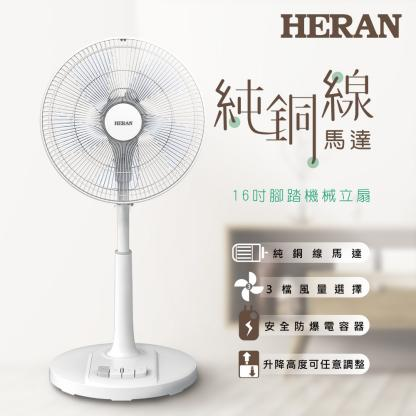fan: (38, 37, 206, 404)
